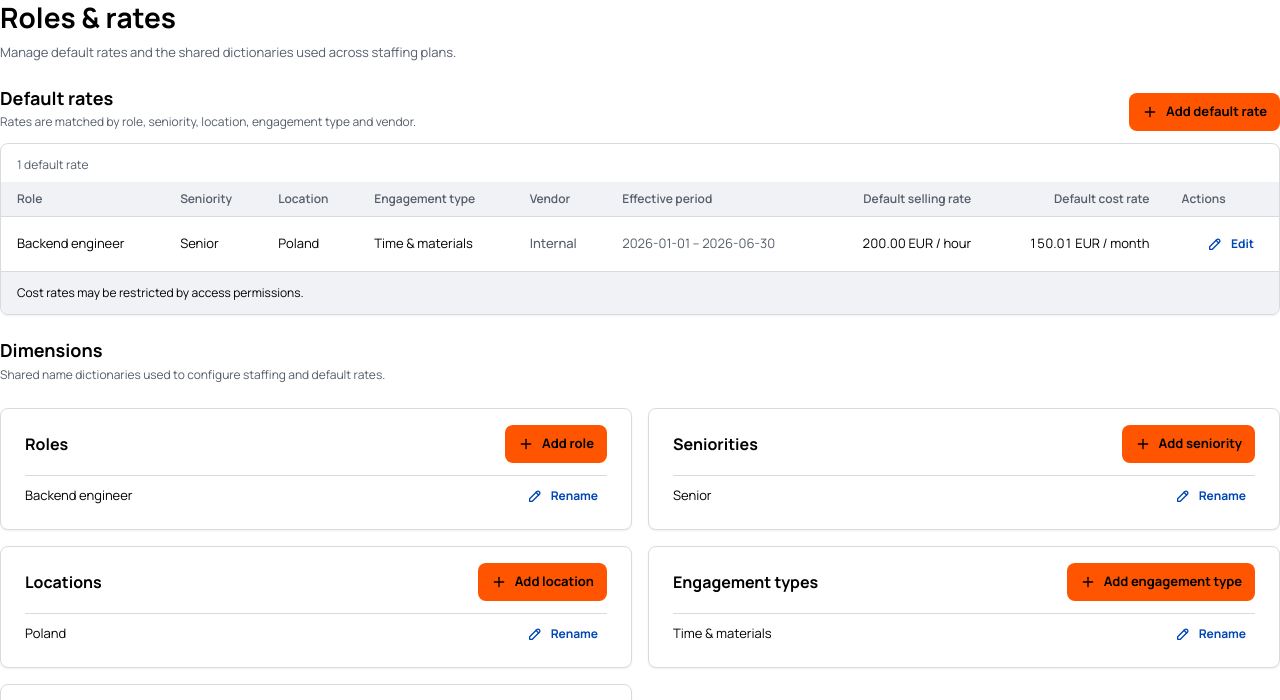
it: the cost rate unit on the catalogue screen (SC-5-09) › K-05: re-choosing the stored unit is not a change
Expected: the element "Default rates" is shown, top-left (0, 86), bottom-right (1279, 315)
Click the button with aria-label "Edit the default rate" at (1230, 244), box top-left (1198, 229), bottom-right (1263, 259)
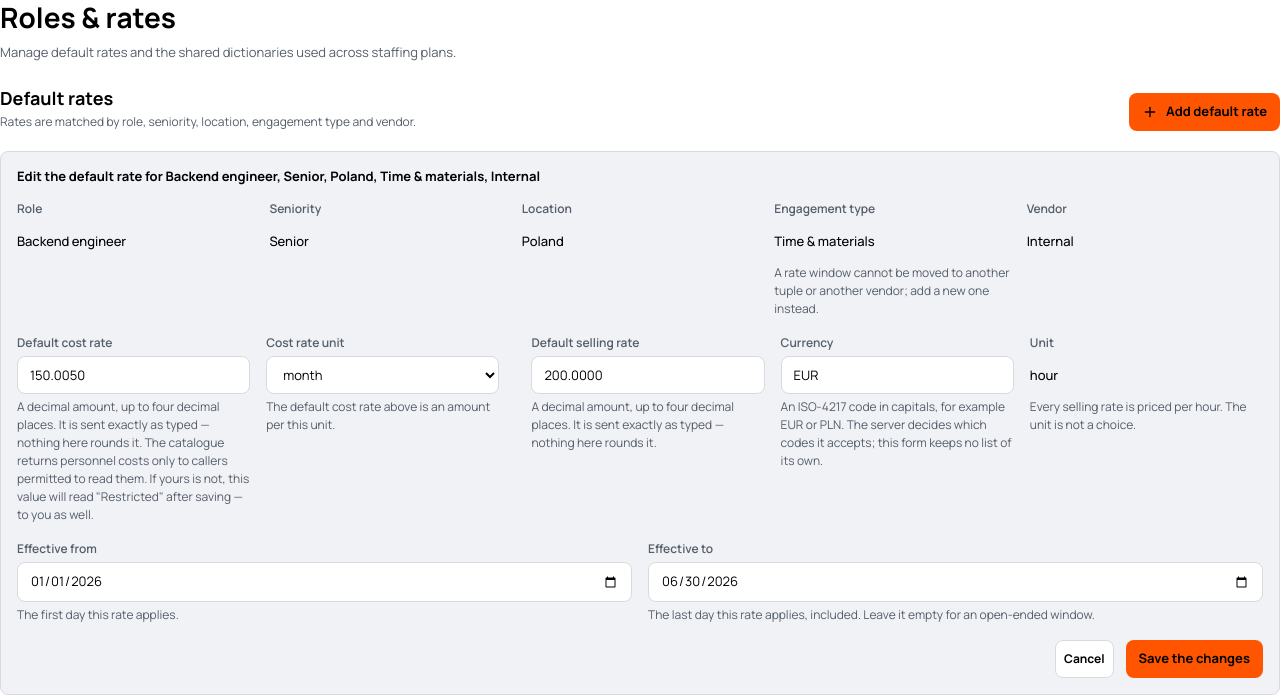
Select "month" in the dropdown labelled "Cost rate unit" at (383, 375), box top-left (266, 356), bottom-right (499, 394)
Click the button "Save the changes" at (1194, 659), box top-left (1126, 640), bottom-right (1263, 678)
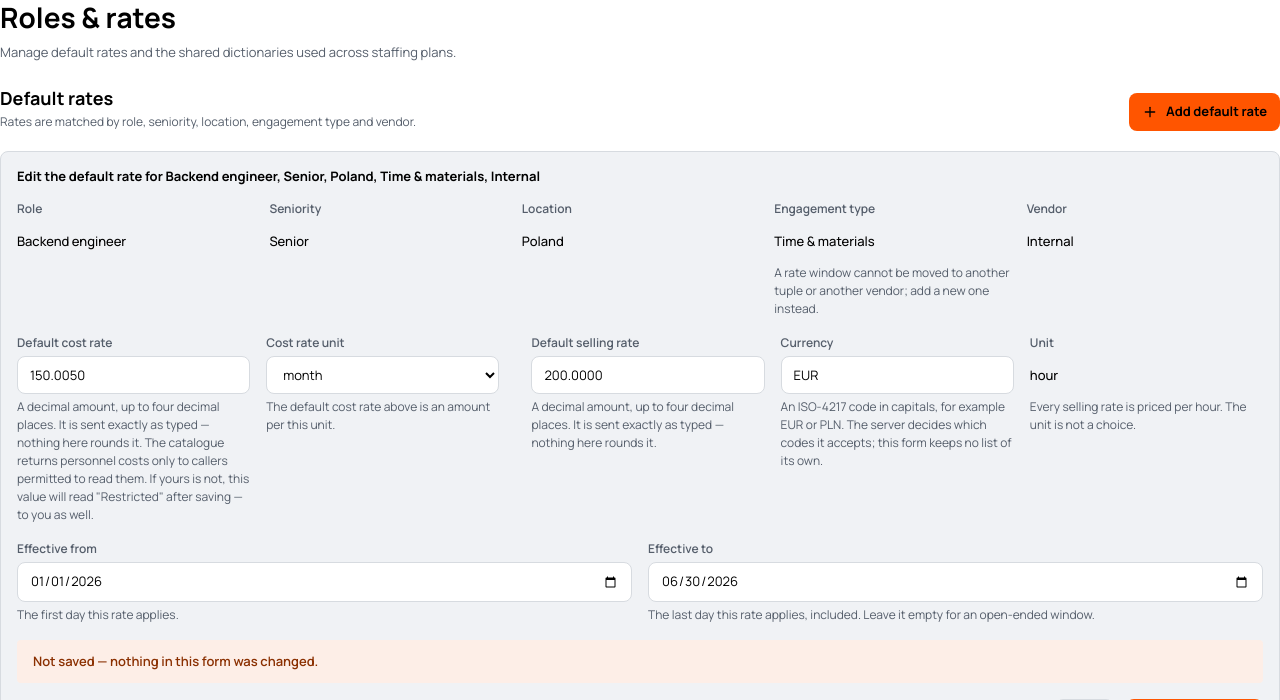
Now the message reads "Not saved — nothing in this form was changed.", box top-left (33, 652), bottom-right (318, 670)
